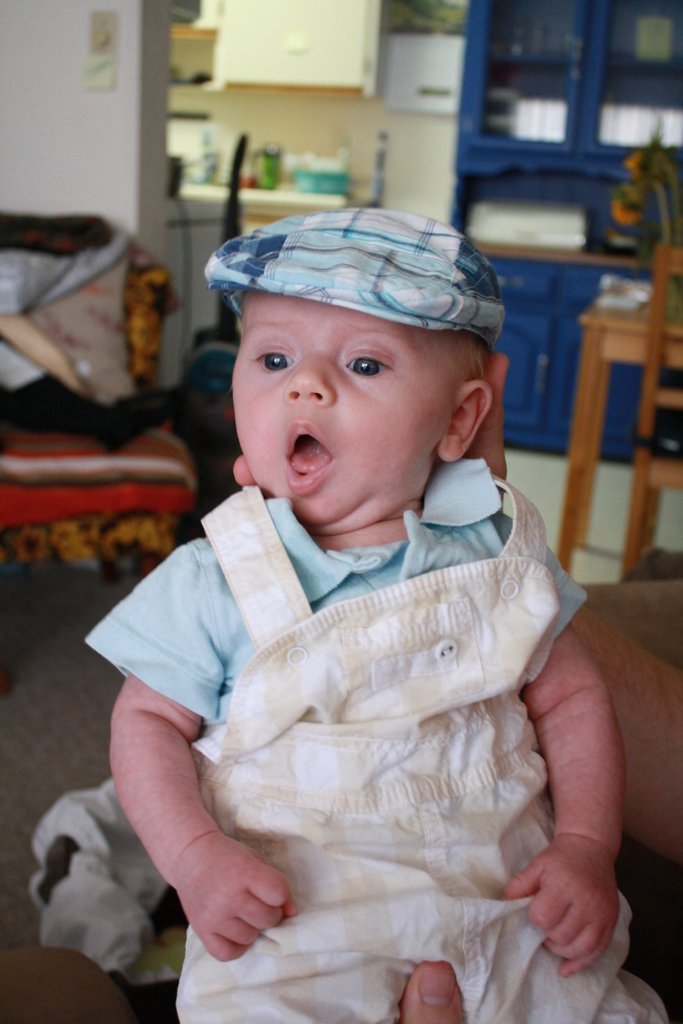Human_hand: (232, 350, 511, 504), (516, 796, 641, 991), (179, 836, 300, 964), (399, 959, 465, 1023)
